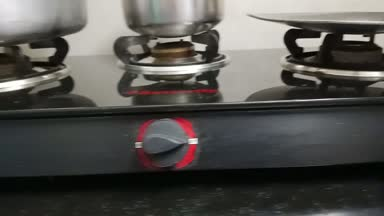flame_gas_off: (116, 30, 220, 171)
